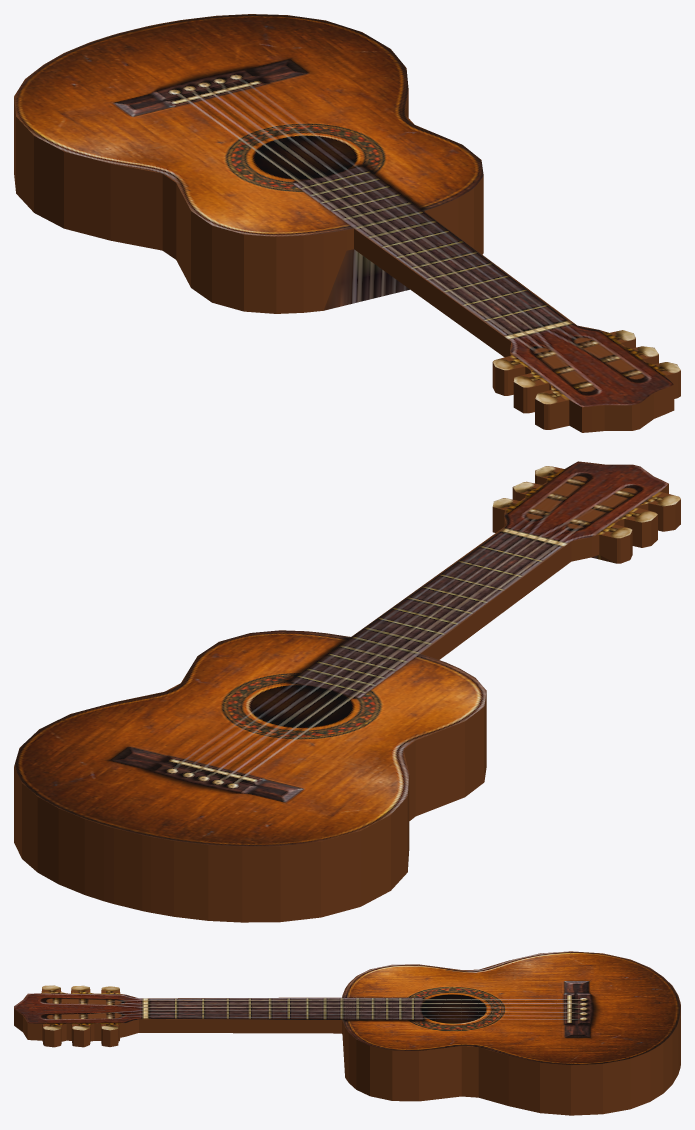
The model's file is Instrument_Guitar.glb.
3 views of the same model, one above another, from view 1: azimuth 30°, elevation 25°; view 2: azimuth 150°, elevation 25°; view 3: azimuth 270°, elevation 25° (orthographic). The views are drawn at different scales.
Parts seen in each view (by area): view 1: model_Instrument_Guitar; view 2: model_Instrument_Guitar; view 3: model_Instrument_Guitar.
Part boxes in pixels (<box>): model_Instrument_Guitar: <box>14,14,680,432</box>; model_Instrument_Guitar: <box>14,461,680,922</box>; model_Instrument_Guitar: <box>14,951,680,1115</box>.
Bounding box in the file's own units: 0.436 × 0.09 × 1.08.
Materials: 1 (1 with a texture image).
